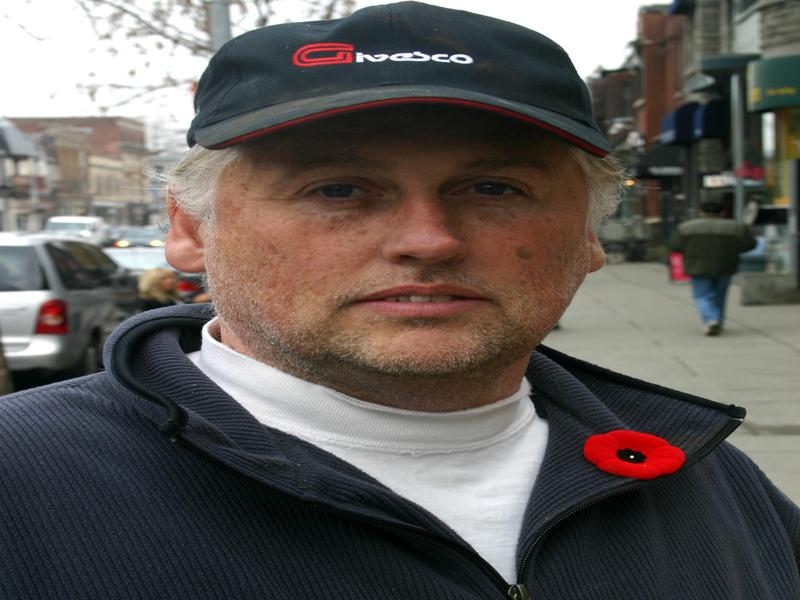person: (15, 4, 795, 600)
